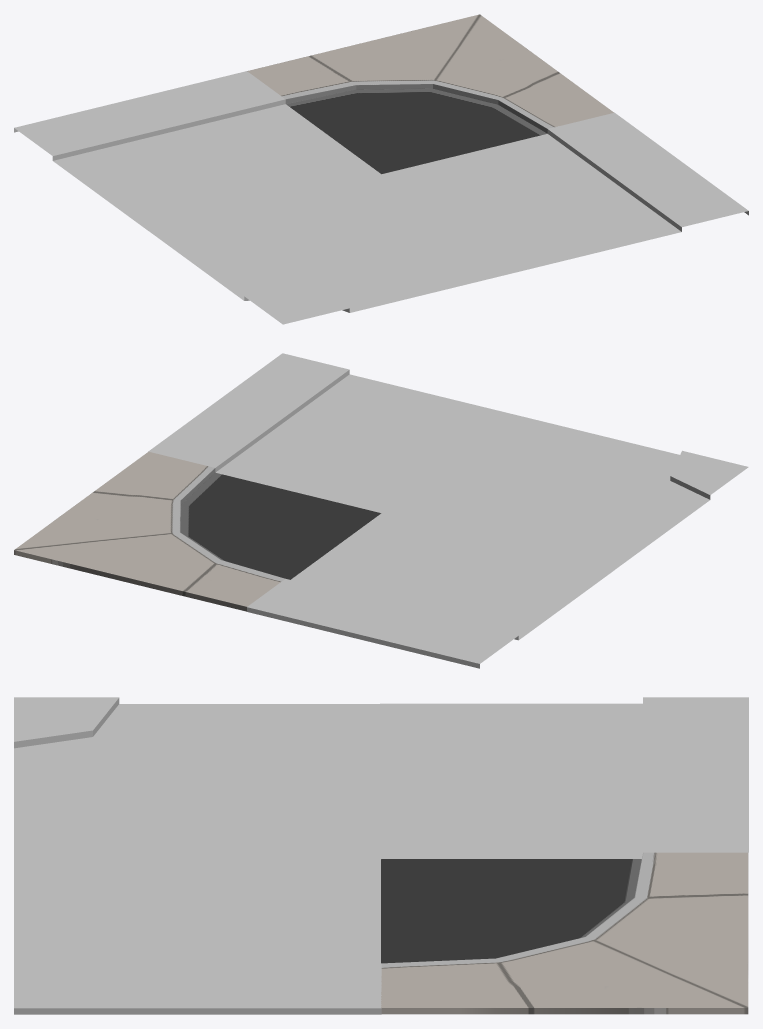
File: road_curve_onepiece.fbx
3 renders of one model, top to bottom at view 1: azimuth 30°, elevation 25°; view 2: azimuth 150°, elevation 25°; view 3: azimuth 270°, elevation 25°, orthographic. The views are drawn at different scales.
Visible parts, largest first — view 1: road_curve_outer, road_curve_corner, road_straight_clear_mesh.003, road_straight_clear_mesh.002, road_straight_clear_mesh.001, road_straight_clear_mesh; view 2: road_curve_outer, road_curve_corner, road_straight_clear_mesh.001, road_straight_clear_mesh, road_straight_clear_mesh.003, road_straight_clear_mesh.002; view 3: road_curve_outer, road_curve_corner, road_straight_clear_mesh.003, road_straight_clear_mesh.001, road_straight_clear_mesh.002, road_straight_clear_mesh.
Part boxes in pixels (x1=…): road_curve_outer: x1=247, y1=14, x2=613, y2=174; road_curve_corner: x1=149, y1=174, x2=515, y2=324; road_straight_clear_mesh.003: x1=14, y1=99, x2=264, y2=230; road_straight_clear_mesh.002: x1=131, y1=71, x2=380, y2=202; road_straight_clear_mesh.001: x1=449, y1=161, x2=748, y2=272; road_straight_clear_mesh: x1=382, y1=112, x2=681, y2=223; road_curve_outer: x1=14, y1=451, x2=381, y2=611; road_curve_corner: x1=381, y1=415, x2=748, y2=570; road_straight_clear_mesh.001: x1=215, y1=353, x2=515, y2=463; road_straight_clear_mesh: x1=148, y1=402, x2=448, y2=512; road_straight_clear_mesh.003: x1=363, y1=542, x2=613, y2=668; road_straight_clear_mesh.002: x1=247, y1=513, x2=497, y2=639; road_curve_outer: x1=381, y1=852, x2=748, y2=1014; road_curve_corner: x1=14, y1=697, x2=381, y2=858; road_straight_clear_mesh.003: x1=380, y1=697, x2=748, y2=781; road_straight_clear_mesh.001: x1=14, y1=859, x2=197, y2=1014; road_straight_clear_mesh.002: x1=381, y1=775, x2=748, y2=858; road_straight_clear_mesh: x1=197, y1=859, x2=381, y2=1014.
Bounding box in the file's own units: 20.02 × 0.1956 × 20.
